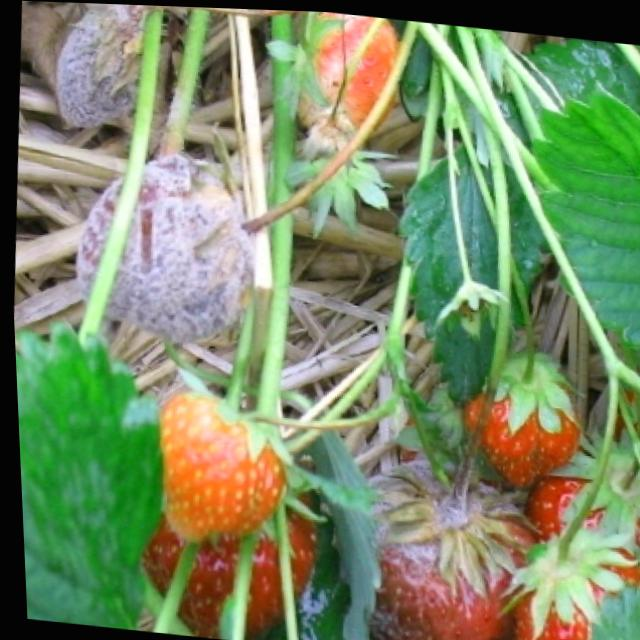Gray Mold: (332, 456, 535, 640), (71, 155, 259, 344), (53, 2, 161, 127)
